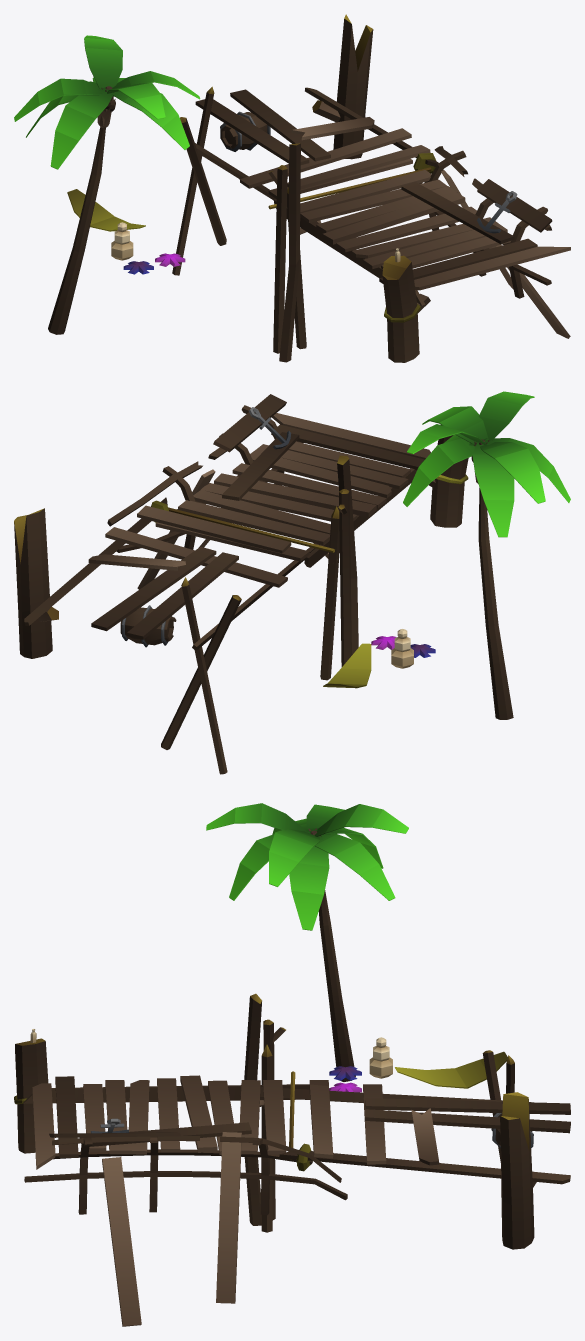
The model's file is beachProps (1).fbx.
3 renders of one model, top to bottom at view 1: azimuth 30°, elevation 25°; view 2: azimuth 150°, elevation 25°; view 3: azimuth 270°, elevation 25°, orthographic. The views are drawn at different scales.
Visible parts, largest first — view 1: Dock, TreeOne, DeadLeaf, SeaShell; view 2: Dock, TreeOne, DeadLeaf, SeaShell; view 3: Dock, TreeOne, DeadLeaf, SeaShell.
Part boxes in pixels (x1,y1,x2,y2): Dock: (172, 14, 570, 362); TreeOne: (14, 35, 200, 334); DeadLeaf: (67, 189, 145, 231); SeaShell: (111, 222, 133, 260); Dock: (14, 394, 468, 774); TreeOne: (403, 391, 570, 719); DeadLeaf: (323, 643, 371, 688); SeaShell: (391, 629, 413, 668); Dock: (14, 993, 570, 1326); TreeOne: (206, 803, 408, 1081); DeadLeaf: (395, 1051, 507, 1088); SeaShell: (369, 1037, 392, 1078).
Bounding box in the file's own units: 690 × 463 × 683.
